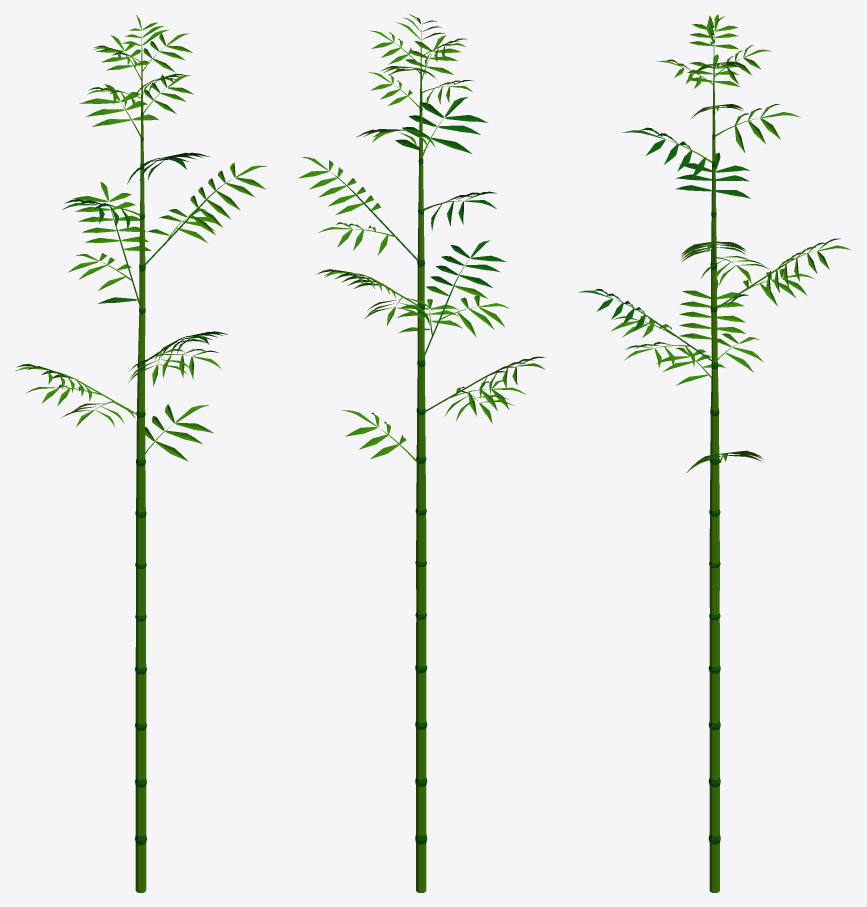
The model's file is bambooOptimized.fbx.
The picture shows the model from 3 angles, left to right: view 1: azimuth 30°, elevation 25°; view 2: azimuth 150°, elevation 25°; view 3: azimuth 270°, elevation 25°; orthographic projection.
Visible parts, largest first — view 1: Cylinder.032; view 2: Cylinder.032; view 3: Cylinder.032.
Boxes of the visible parts, left/top/right/bottom form: Cylinder.032: left=15, top=15, right=267, bottom=892; Cylinder.032: left=298, top=14, right=545, bottom=892; Cylinder.032: left=578, top=14, right=851, bottom=892.
Bounding box in the file's own units: 491 × 1638 × 468.
